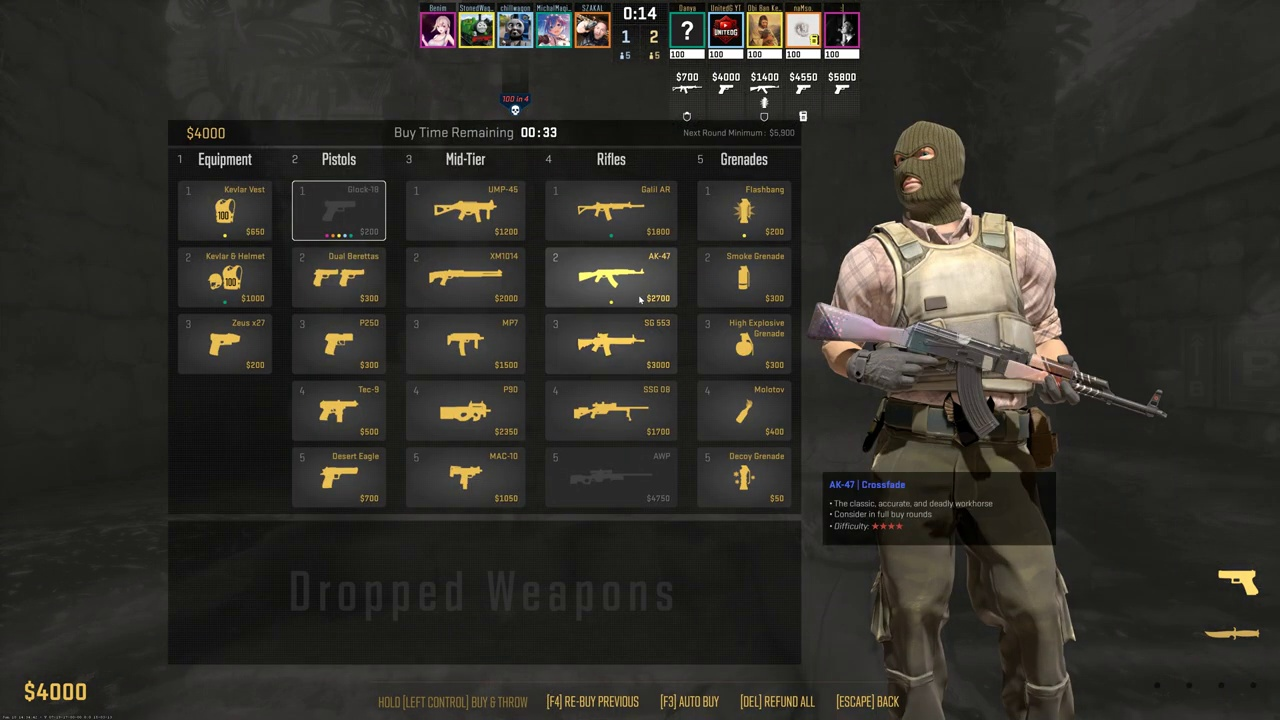Terrorist: (843, 129, 1081, 720)
